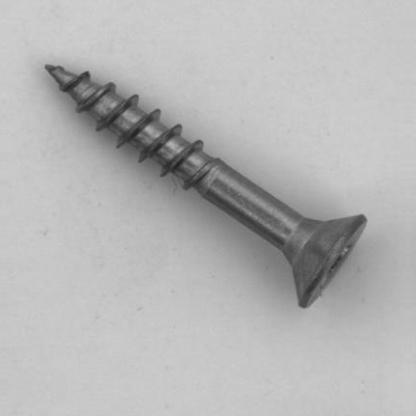metal: (44, 62, 367, 308)
